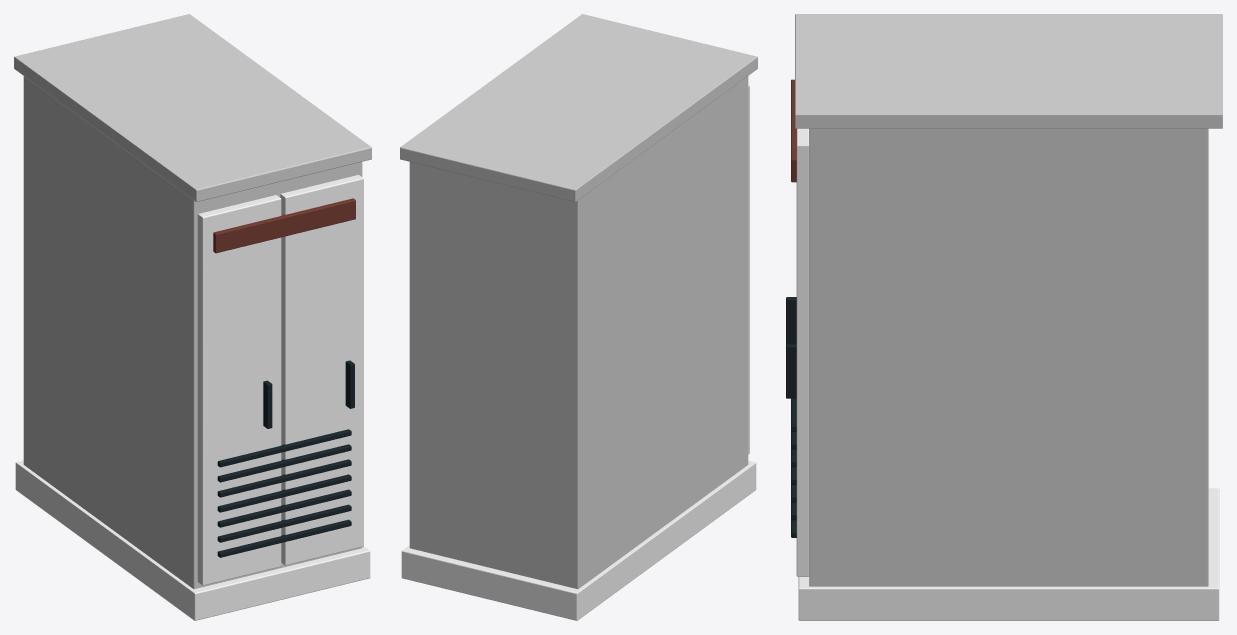
The model's file is B07_SERVICE_CABINET_narrow_045.glb.
3 views of the same model, side by side, from view 1: azimuth 30°, elevation 25°; view 2: azimuth 150°, elevation 25°; view 3: azimuth 270°, elevation 25° (orthographic). The views are drawn at different scales.
Parts seen in each view (by area): view 1: B07_SERVICE_CABINET; view 2: B07_SERVICE_CABINET; view 3: B07_SERVICE_CABINET.
Part boxes in pixels (x1,y1,x2,y2): B07_SERVICE_CABINET: (14, 14, 371, 620); B07_SERVICE_CABINET: (400, 14, 757, 620); B07_SERVICE_CABINET: (786, 14, 1222, 620).
Size of the model in its own units: 1.32 by 3.11 by 2.43.
